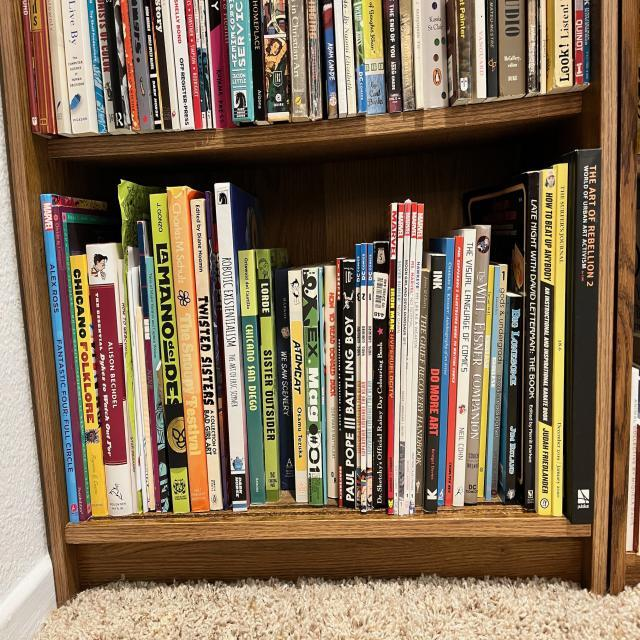book: (167, 187, 210, 512), (149, 194, 190, 514), (40, 193, 79, 522), (86, 243, 133, 515), (572, 150, 602, 523), (214, 183, 248, 512), (52, 206, 87, 520), (190, 199, 222, 511), (71, 255, 108, 517), (464, 226, 492, 504), (237, 250, 265, 505), (137, 221, 161, 512), (453, 229, 476, 506), (537, 170, 555, 516), (146, 258, 170, 512), (551, 165, 568, 516), (255, 250, 278, 503), (117, 259, 139, 513), (444, 237, 464, 505), (301, 269, 323, 505), (425, 255, 445, 514), (287, 271, 308, 503), (525, 171, 539, 509), (438, 239, 455, 506), (131, 267, 149, 511), (274, 270, 294, 489), (410, 204, 424, 515), (373, 242, 389, 507), (61, 0, 92, 134), (412, 0, 449, 110), (491, 264, 508, 495), (136, 306, 155, 510), (399, 202, 411, 517), (405, 202, 417, 516), (28, 0, 56, 134), (478, 265, 494, 497), (505, 296, 523, 502), (127, 273, 142, 513), (415, 270, 430, 505), (394, 203, 405, 514), (262, 1, 290, 120), (169, 0, 194, 131), (128, 0, 152, 130), (228, 0, 253, 122), (487, 267, 500, 501), (324, 266, 337, 498), (360, 0, 386, 115), (343, 262, 355, 507), (120, 0, 142, 130), (388, 202, 397, 515), (86, 0, 107, 133), (498, 0, 526, 98), (104, 0, 125, 130), (151, 0, 172, 130), (160, 0, 181, 128), (20, 1, 40, 133), (142, 0, 162, 130), (46, 0, 65, 134), (96, 0, 114, 130), (184, 0, 202, 129), (208, 1, 226, 128), (289, 0, 308, 118), (114, 0, 131, 130), (383, 0, 402, 114), (248, 0, 266, 120), (456, 0, 476, 98), (399, 0, 416, 110), (192, 0, 206, 128), (198, 0, 212, 128), (323, 0, 338, 115), (554, 0, 574, 86), (342, 0, 357, 112), (203, 0, 216, 128), (308, 0, 322, 118), (361, 243, 367, 513), (367, 243, 373, 511), (334, 0, 348, 114), (355, 244, 361, 508), (354, 0, 368, 112), (337, 259, 343, 507), (474, 0, 487, 98), (486, 0, 497, 97), (574, 0, 583, 84), (528, 0, 536, 94), (540, 0, 548, 94), (583, 0, 590, 84)
